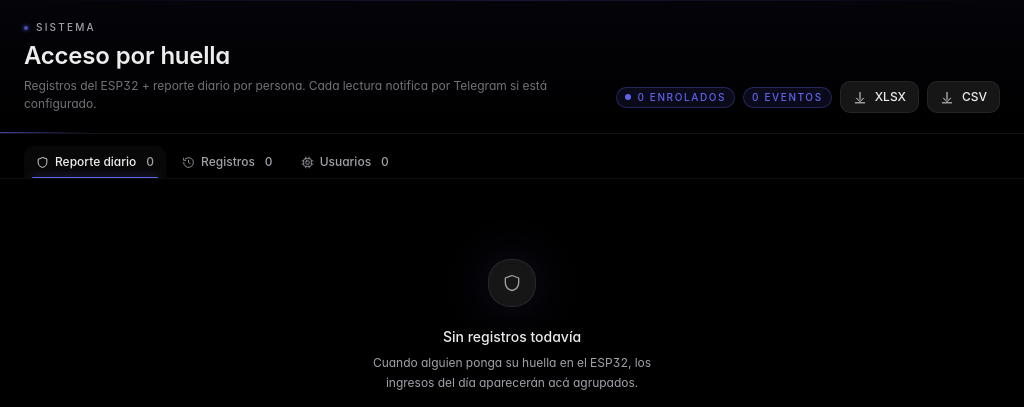
Scenario: AccessPanel — orquestador › cambia a la tab Registros al clickearla
This screenshot has width=1024, height=407.
// Las tabs aparecen en el header
Step 1. Click the button "Registros 0" → (227, 162), box x1=170 y1=146 x2=285 y2=178
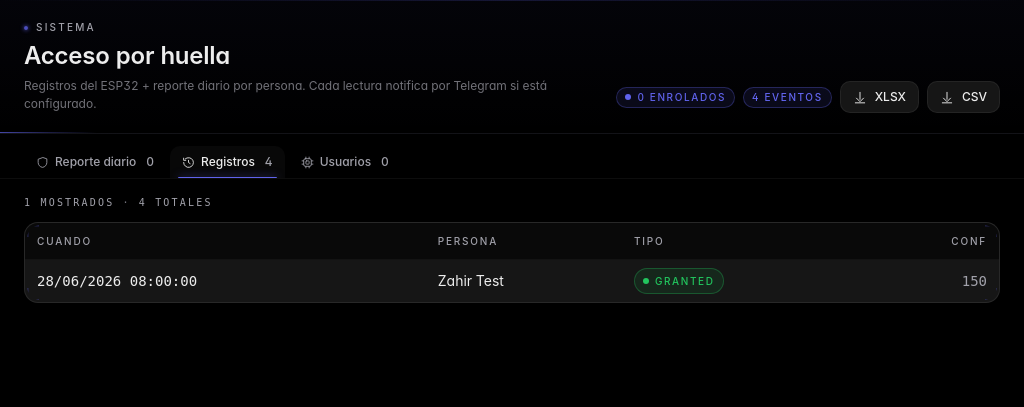
Expected: the text "GRANTED" is shown, x1=655 y1=271 x2=714 y2=291
